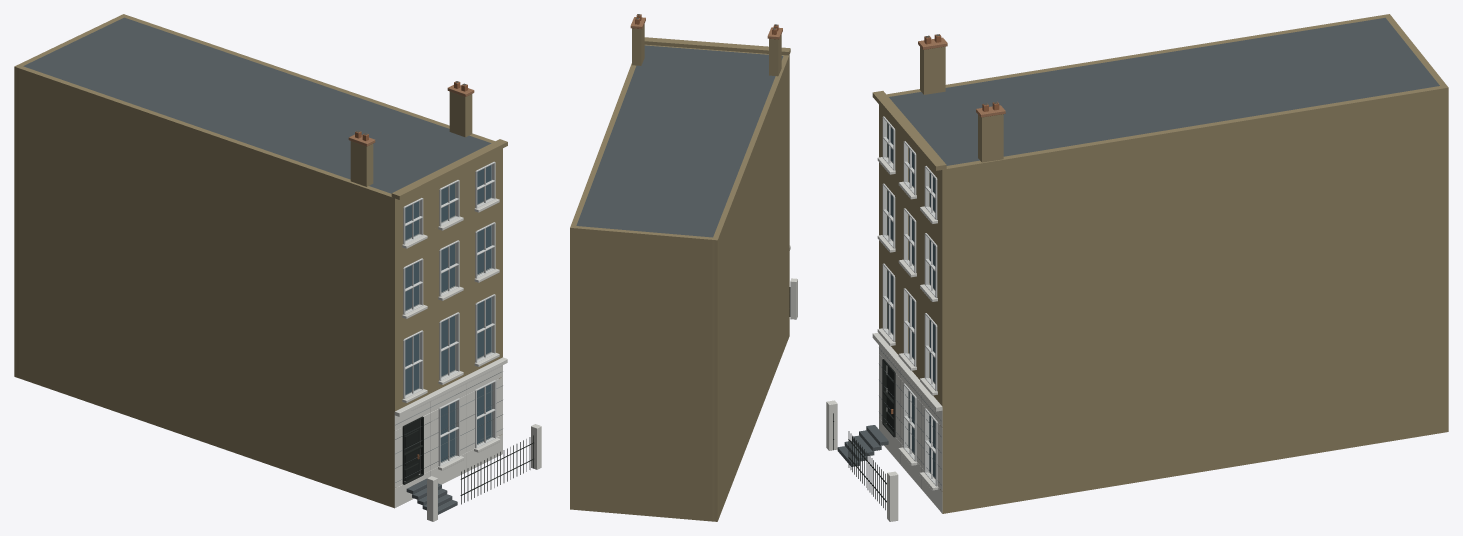
Rendered from 5lf-exterior-379e27b77b3a.glb.
3 renders of one model, left to right at view 1: azimuth 30°, elevation 25°; view 2: azimuth 150°, elevation 25°; view 3: azimuth 270°, elevation 25°, orthographic. The views are drawn at different scales.
Visible parts, largest first — view 1: 5LF.001; view 2: 5LF.001; view 3: 5LF.001.
Boxes of the visible parts, box(x1,y1,x2,y2) form: 5LF.001: box(14, 14, 541, 521); 5LF.001: box(570, 14, 797, 521); 5LF.001: box(826, 14, 1448, 521).
Bounding box in the file's own units: 14.28 × 16.24 × 22.93.
